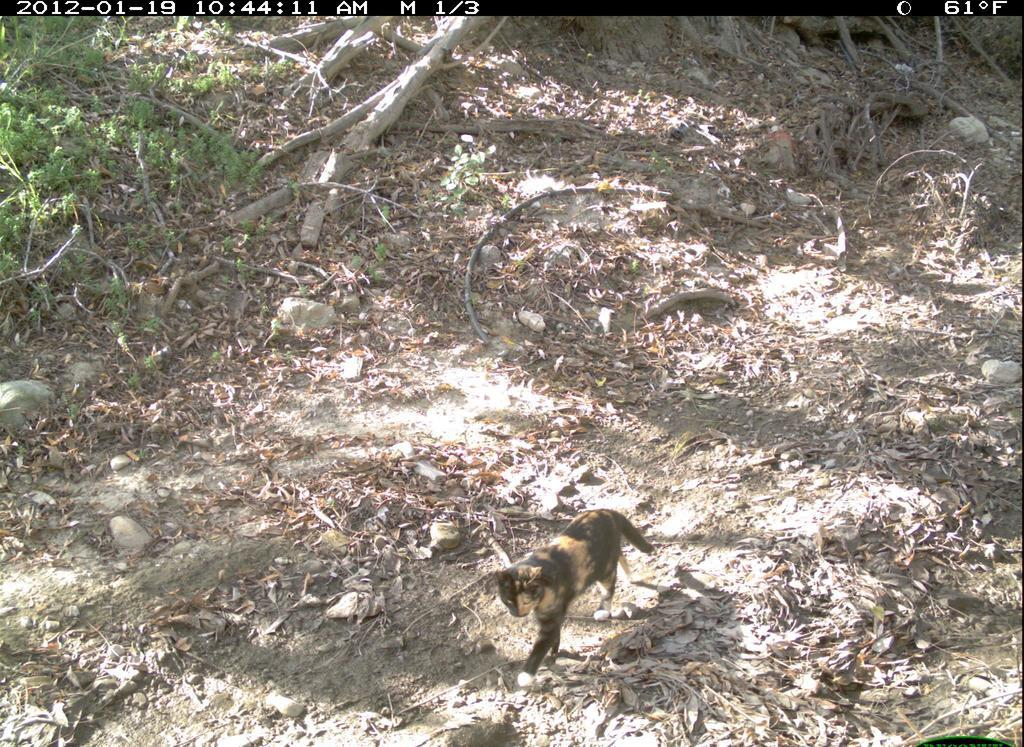cat: (477, 487, 673, 698)
